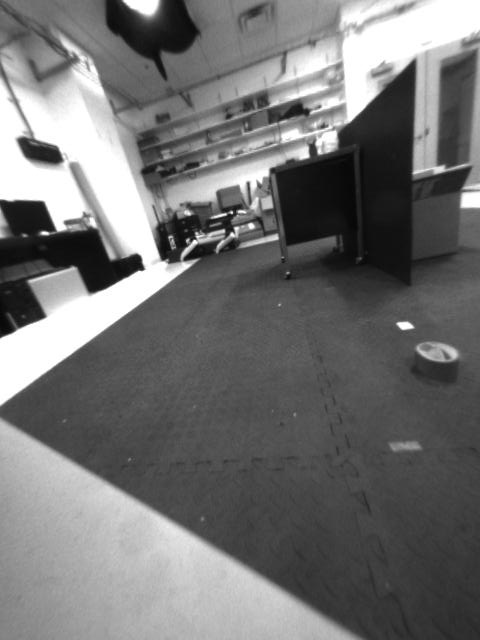dogtoy: (404, 335, 465, 388)
